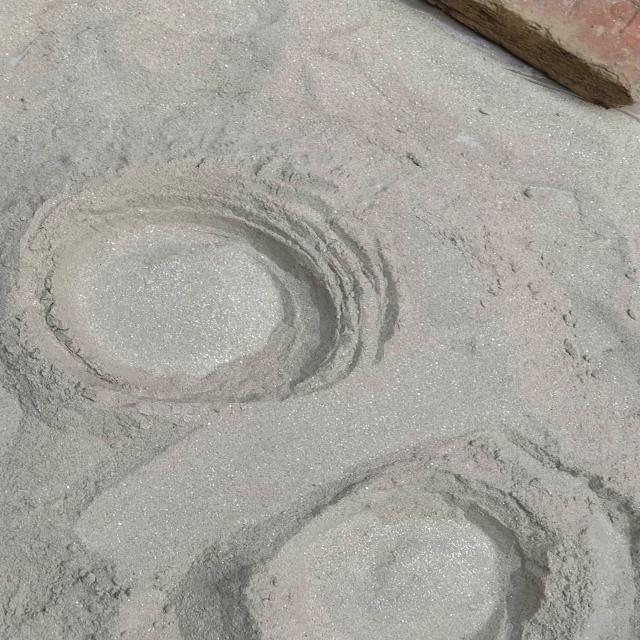C20: (20, 179, 384, 403), (244, 474, 541, 640)
